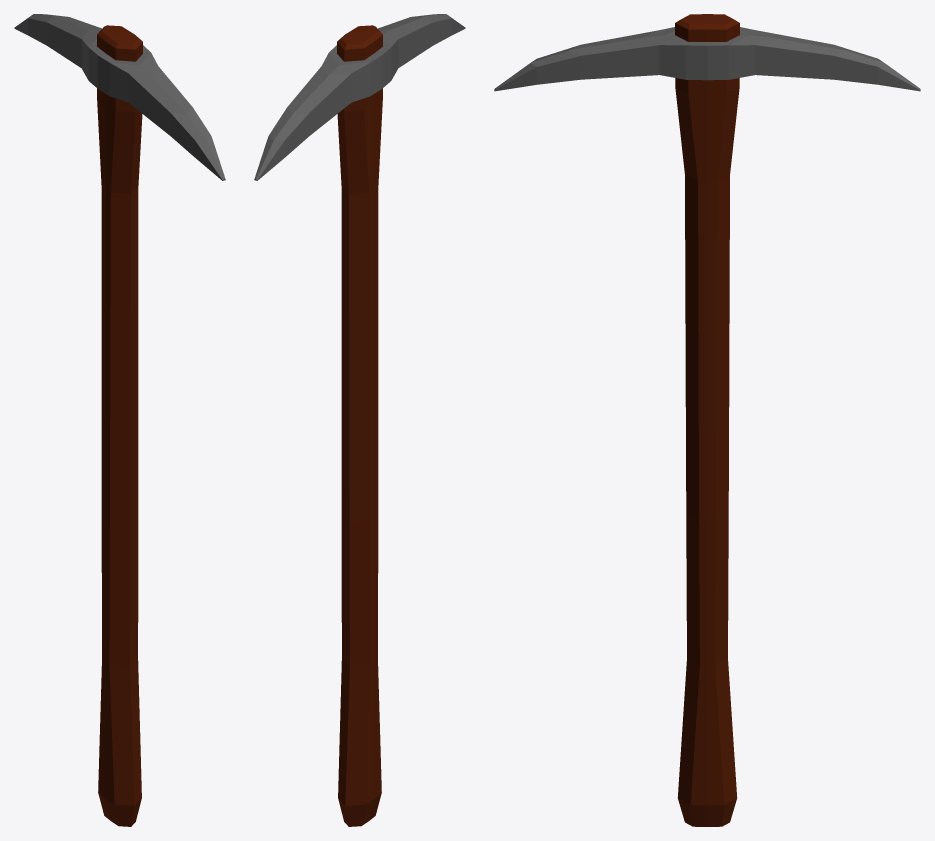
File: kilof.fbx
3 views of the same model, side by side, from view 1: azimuth 30°, elevation 25°; view 2: azimuth 150°, elevation 25°; view 3: azimuth 270°, elevation 25° (orthographic). The views are drawn at different scales.
Parts seen in each view (by area): view 1: Cube.003; view 2: Cube.003; view 3: Cube.003.
Part boxes in pixels (x1,y1,x2,y2): Cube.003: (14,14,225,826); Cube.003: (254,14,465,826); Cube.003: (494,14,920,826).
Bounding box in the file's own units: 277 × 4663 × 2243.
